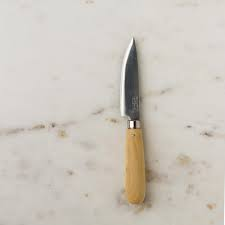kuchillu: (117, 34, 149, 206)
